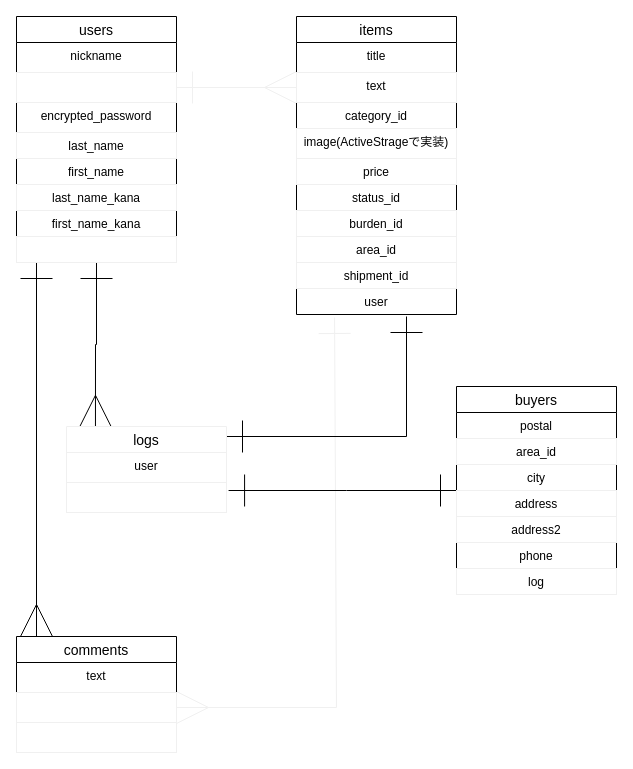
Some shapes in this 633 by 769 pixel diagram are drawn without their labels. The shapes that lost their labels are listed below. From the top down, each one's centre as x and y in pixels, then its label:
At point 96,87: "email".
At point 96,249: "birthday".
At point 146,497: "item".
At point 96,707: "item_id".
At point 96,737: "user_id".
